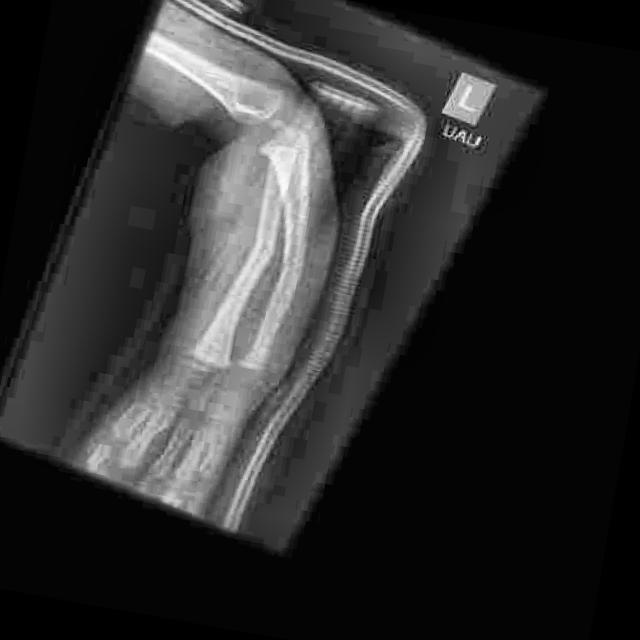forearm fracture: (223, 226, 286, 291)
